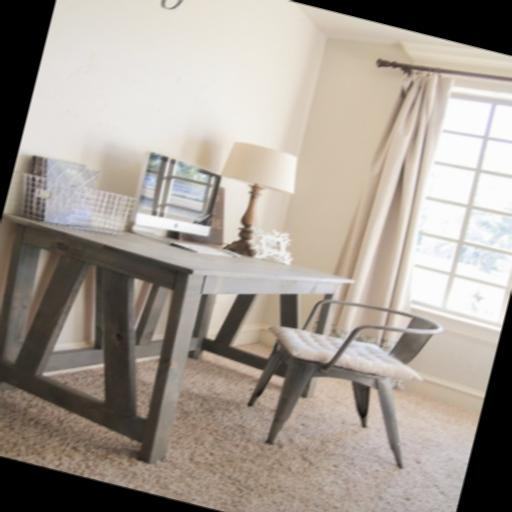chair: (238, 280, 446, 478)
desk: (0, 191, 355, 500)
wall: (0, 0, 333, 461), (247, 27, 512, 414)
